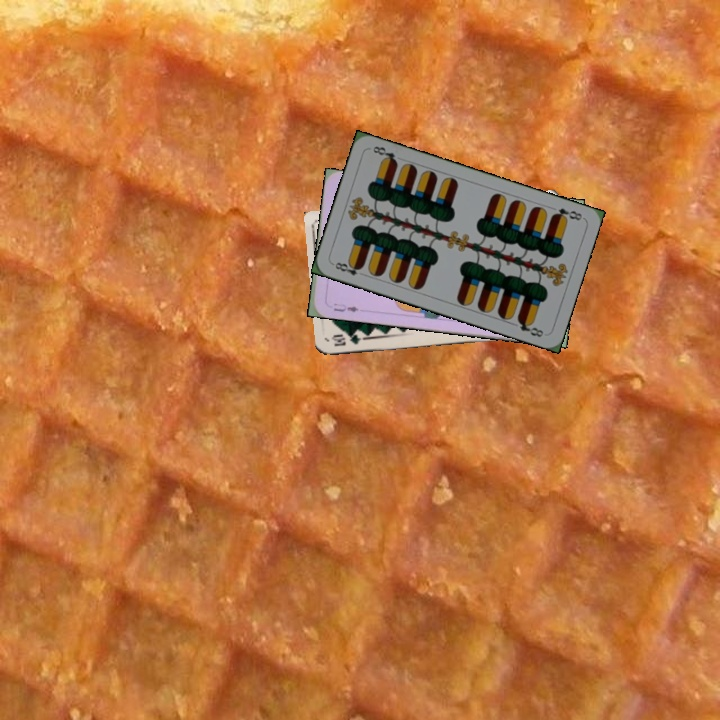E8: (329, 258, 368, 279), (548, 204, 585, 224)
EU: (329, 299, 361, 315)
G10: (328, 329, 369, 349)
